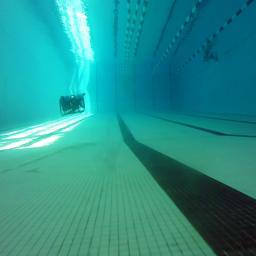front: (59, 93, 86, 116)
